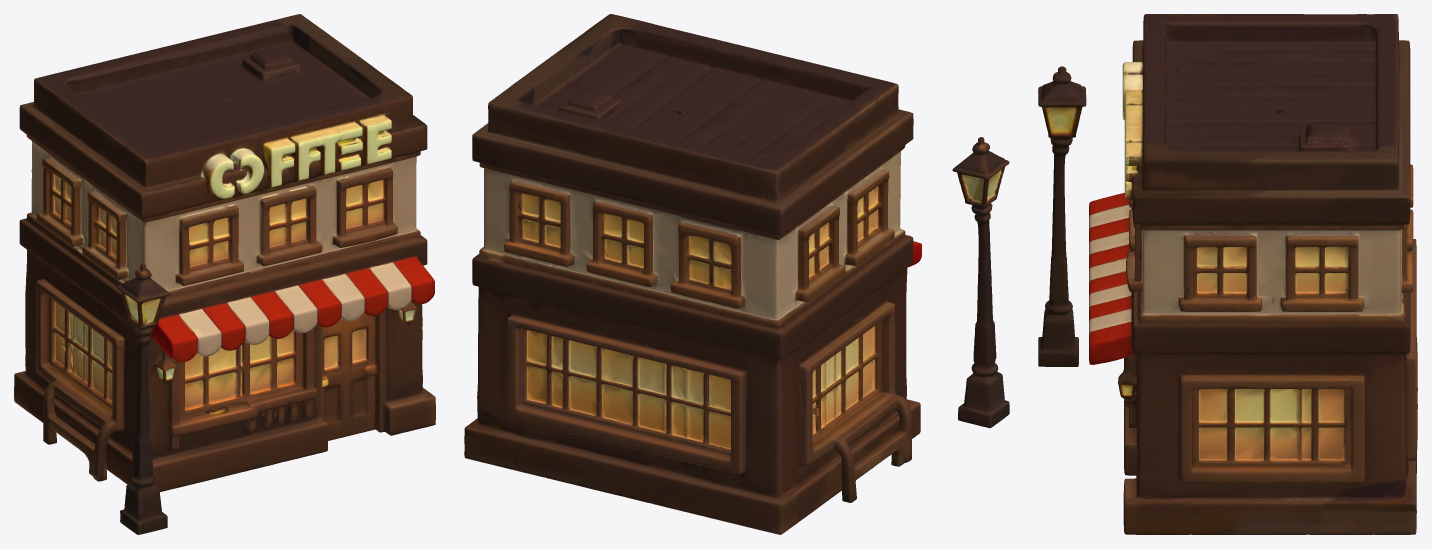
File: coffee_shop_corner.glb
3 views of the same model, side by side, from view 1: azimuth 30°, elevation 25°; view 2: azimuth 150°, elevation 25°; view 3: azimuth 270°, elevation 25° (orthographic). The views are drawn at different scales.
Visible parts, largest first — view 1: Object_5; view 2: Object_5; view 3: Object_5.
Part boxes in pixels (x1,y1,x2,y2): Object_5: (14, 14, 435, 534); Object_5: (464, 14, 1009, 534); Object_5: (1038, 14, 1417, 534).
Bounding box in the file's own units: 1.91 × 1.76 × 1.64.
1 material, 1 textured.
